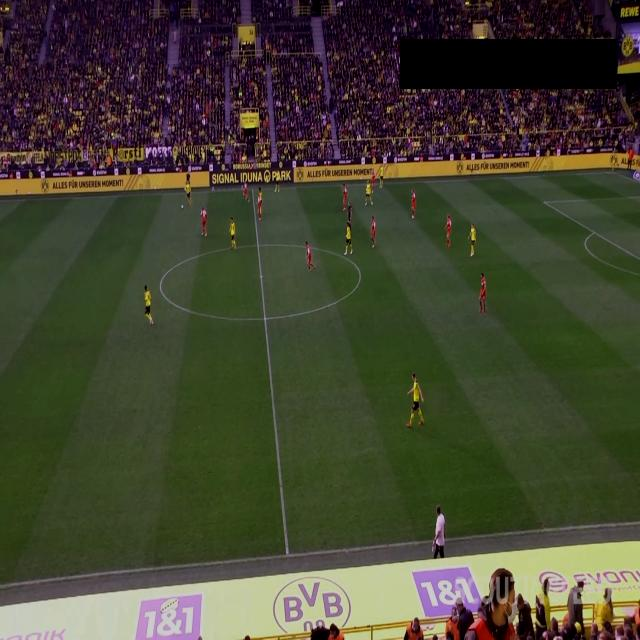ball: (180, 203, 183, 210)
f_player: (402, 364, 428, 447), (475, 268, 489, 321), (142, 284, 154, 326), (467, 222, 477, 258), (228, 216, 238, 251), (344, 221, 354, 256), (199, 204, 209, 238), (306, 240, 316, 274), (443, 213, 452, 250), (364, 180, 374, 208), (410, 188, 418, 220), (255, 193, 262, 221), (185, 180, 192, 206), (371, 215, 376, 249), (342, 183, 348, 211), (378, 163, 384, 190), (242, 184, 250, 204), (274, 168, 280, 194), (372, 168, 376, 194), (258, 187, 262, 205)
umpire: (347, 201, 354, 222)
